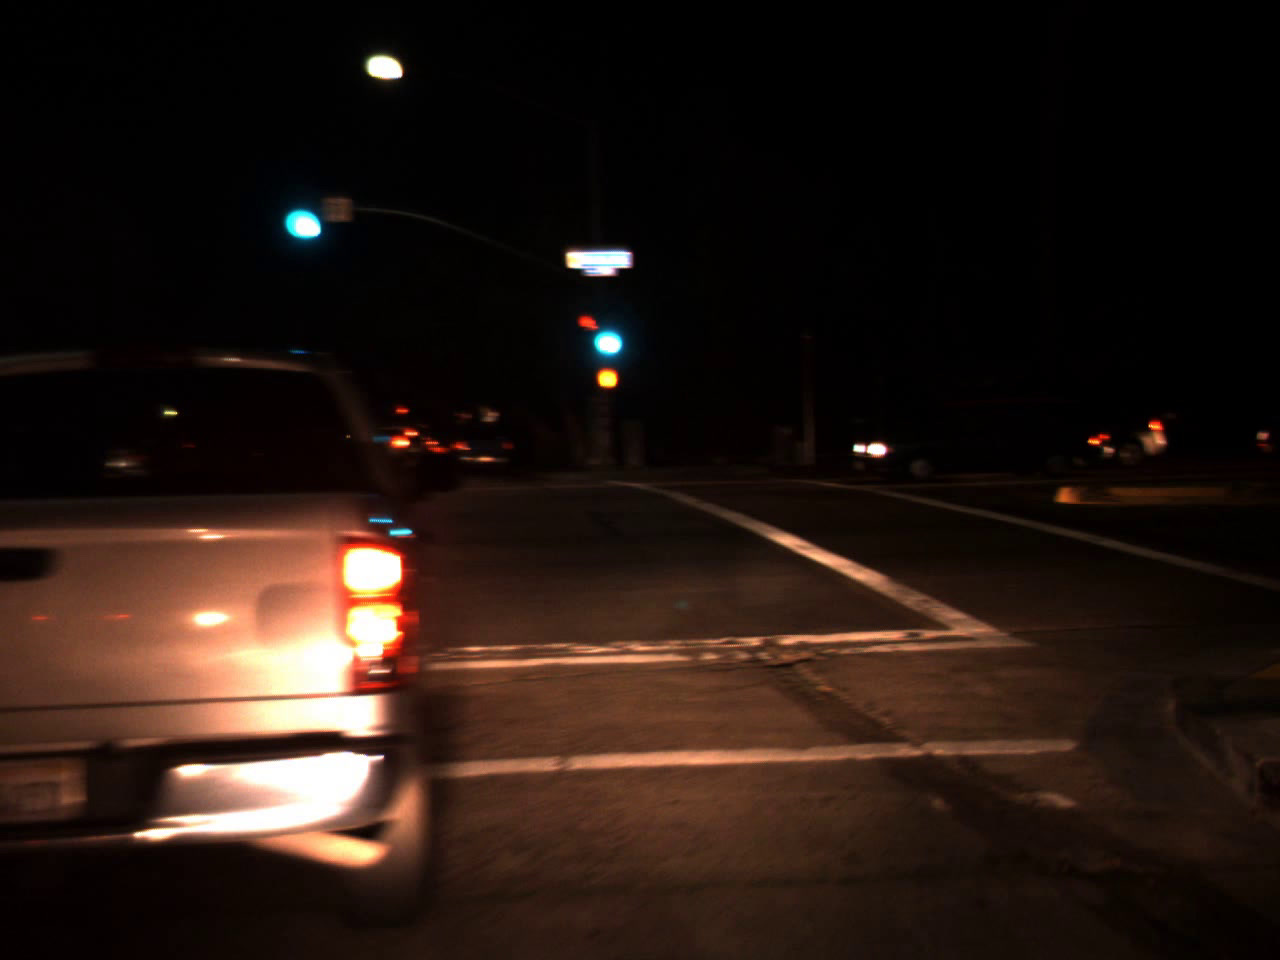go: (274, 173, 326, 251), (581, 299, 629, 365)
